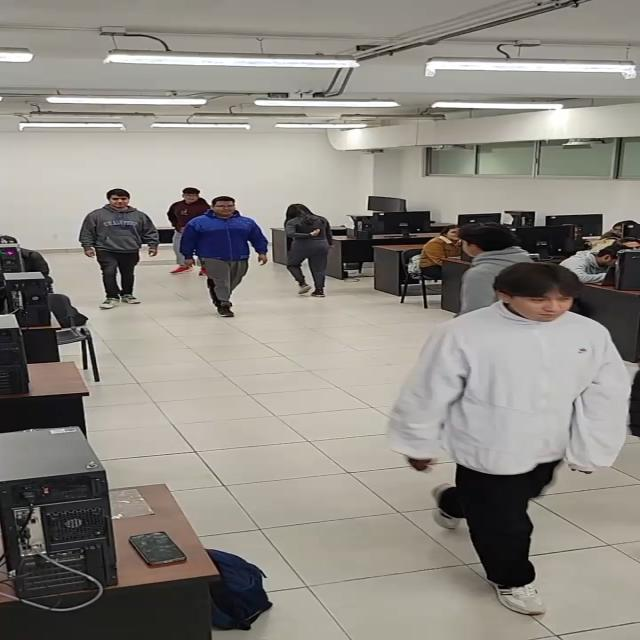Persona: (382, 261, 632, 617), (180, 196, 269, 318), (80, 190, 162, 310), (454, 222, 533, 318), (283, 202, 337, 299), (169, 186, 212, 277)
